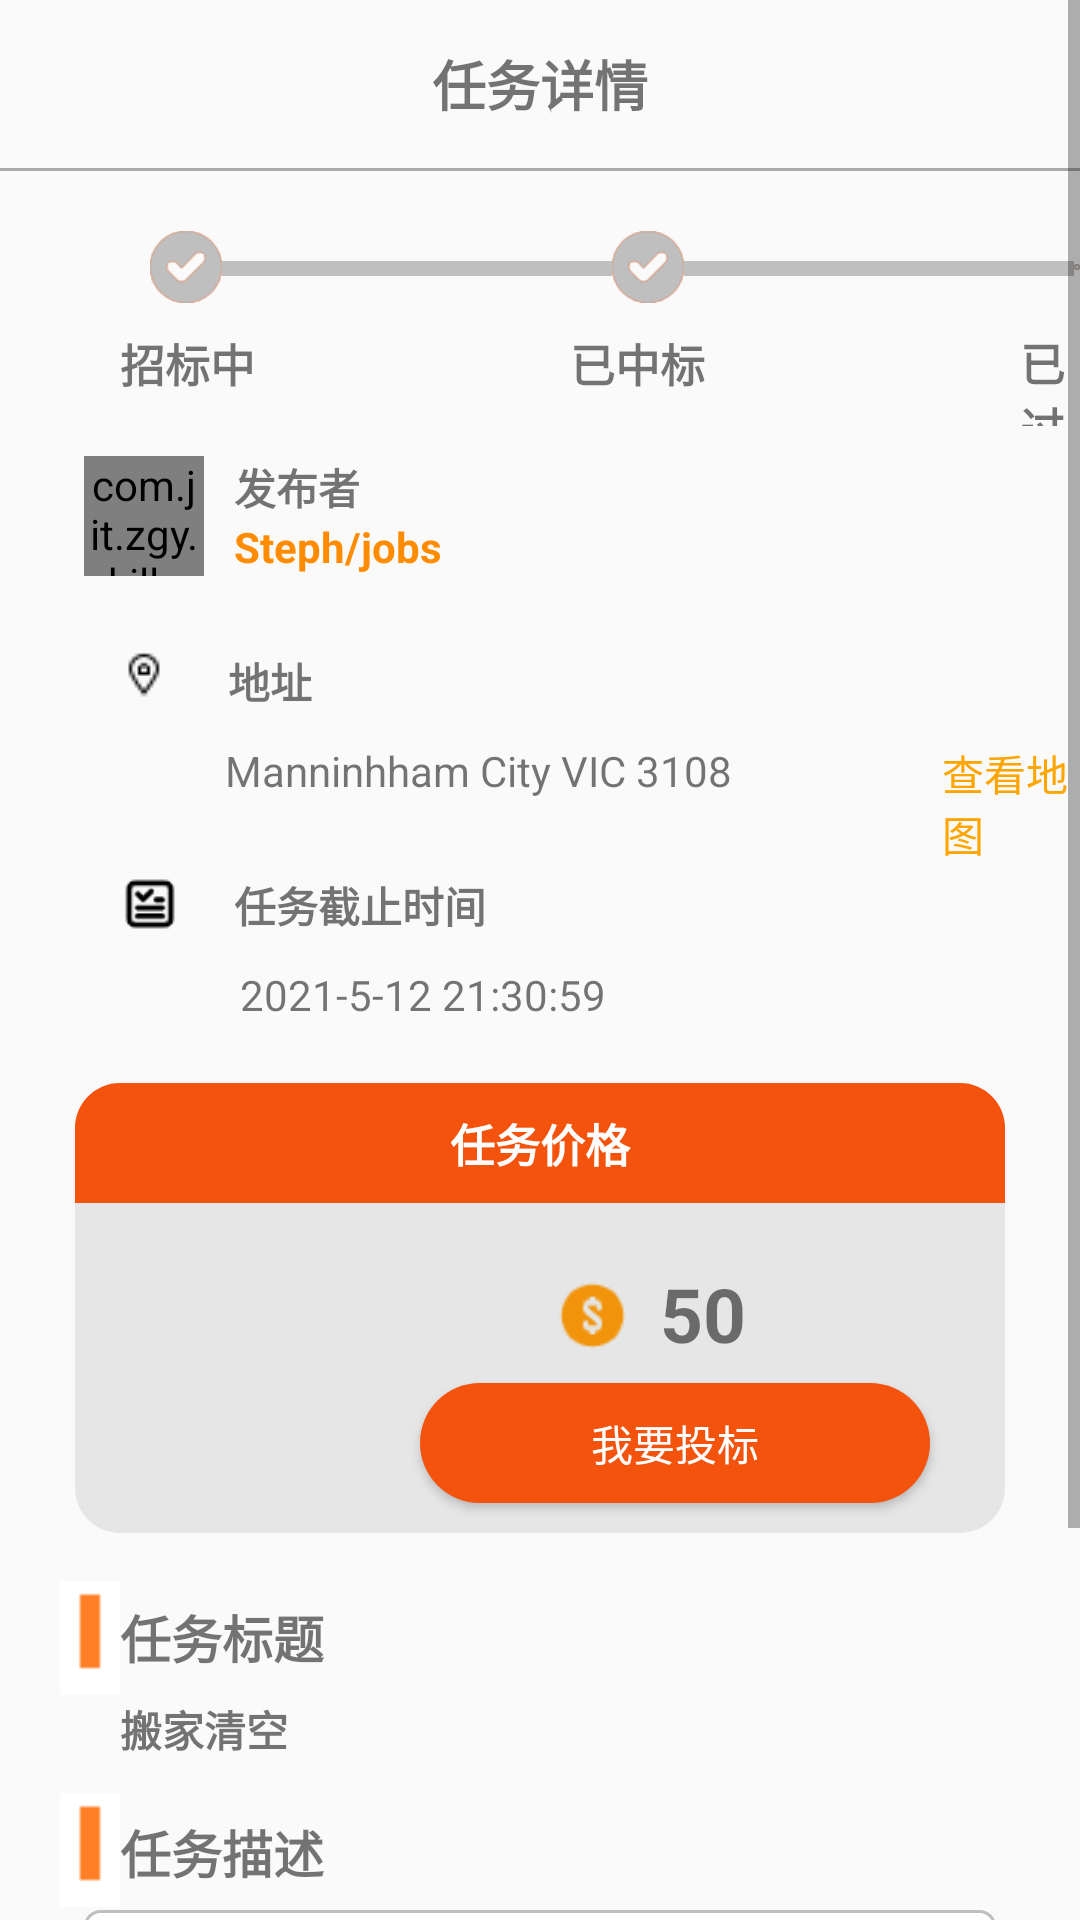

Icon bounding boxes for this 1080px×1920px phone screenshot, format [x1,y1,x2,y2]:
dollar: [560,1283,625,1348]
mine address: [128,653,160,696]
task: [125,879,175,929]
